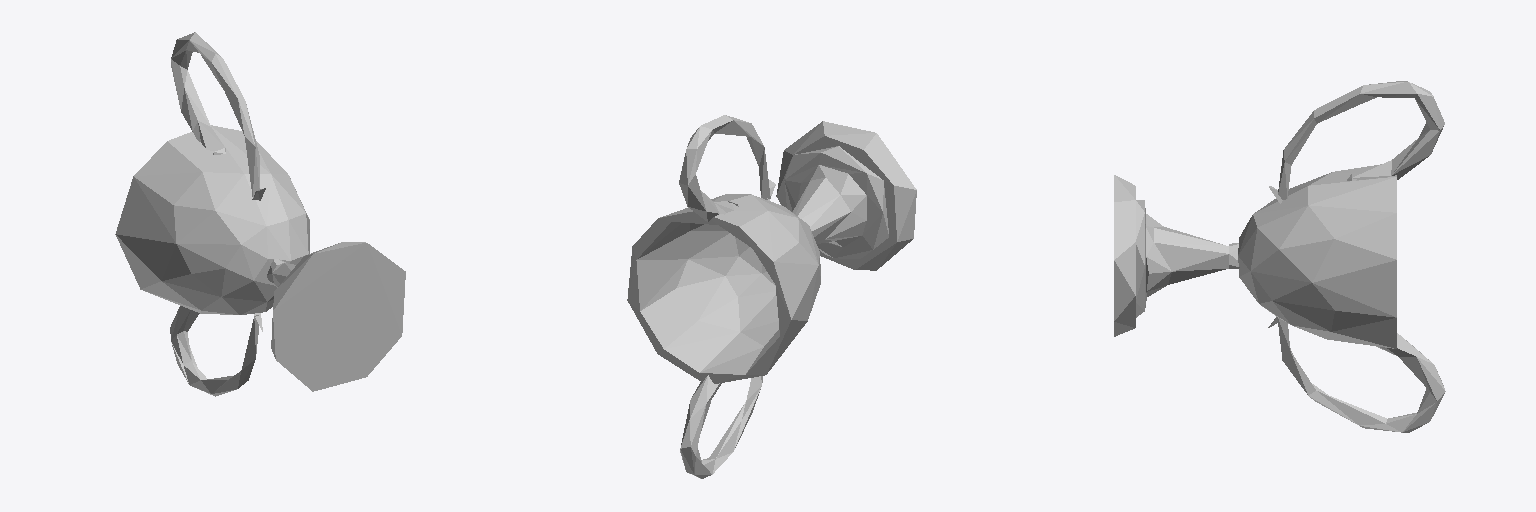
The model's file is trophy.obj.
The picture shows the model from 3 angles: view 1: azimuth 30°, elevation 25°; view 2: azimuth 150°, elevation 25°; view 3: azimuth 270°, elevation 25°; orthographic projection.
Visible parts, largest first — view 1: trophy; view 2: trophy; view 3: trophy.
Part boxes in pixels (x1,y1,x2,y2): trophy: (115,32,405,396); trophy: (627,115,916,478); trophy: (1114,81,1445,432).
Size of the model in its own units: 2.22 by 4.56 by 3.89.